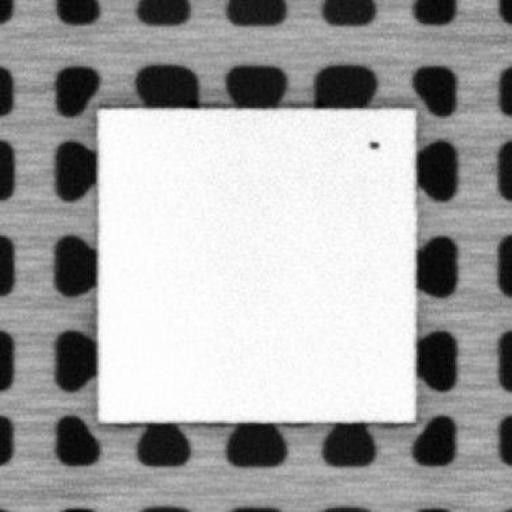DIE_INK: (364, 135, 384, 150)
